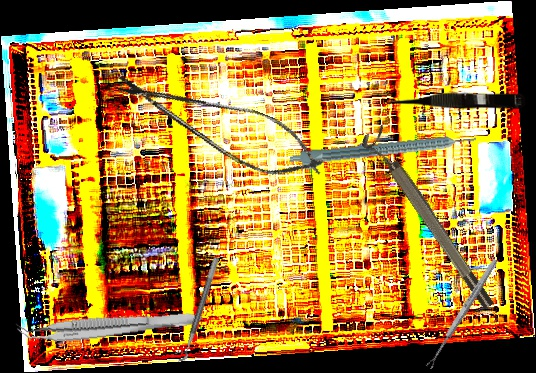Fixation Ring: (358, 124, 498, 317), (170, 253, 221, 365)
Handpiece: (289, 132, 478, 174)
Micro Scissor: (101, 56, 337, 195), (381, 90, 526, 109)
Surgical Spoon: (424, 257, 500, 370)
Tissue Forceps: (15, 300, 203, 349)
